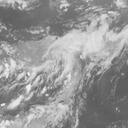cyclone: (43, 36, 103, 81)
